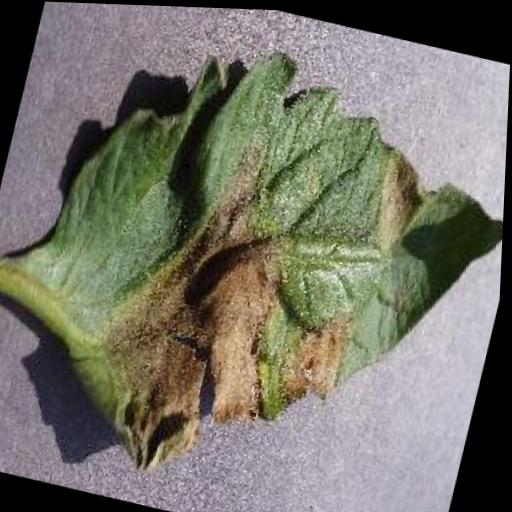Late Blight: (8, 3, 512, 512)
